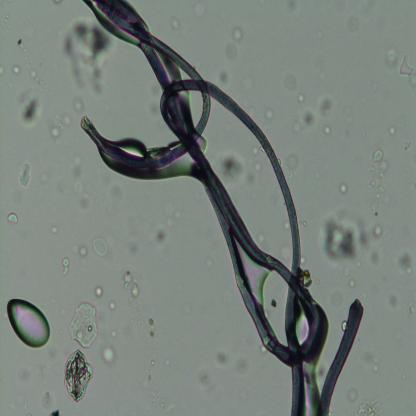Air bubble: (6, 297, 52, 350)
Background material: (63, 20, 118, 103), (322, 205, 377, 266), (292, 90, 332, 133), (61, 347, 94, 397), (367, 146, 390, 213), (69, 300, 100, 348), (386, 46, 416, 91), (214, 148, 243, 184), (16, 86, 41, 126), (70, 155, 86, 207), (223, 26, 243, 61), (49, 112, 71, 138), (123, 271, 141, 300), (398, 251, 414, 276), (92, 236, 110, 258), (100, 344, 118, 365), (360, 394, 379, 413), (17, 164, 32, 188), (68, 242, 88, 259), (154, 226, 168, 246), (252, 146, 262, 172), (216, 348, 229, 368), (60, 256, 72, 276), (286, 149, 298, 166), (6, 210, 20, 224), (320, 123, 333, 137), (264, 106, 275, 121), (340, 180, 348, 196), (108, 301, 118, 313), (94, 286, 104, 298), (13, 64, 23, 73)
Microfibre: (81, 0, 325, 416), (316, 298, 365, 416)
